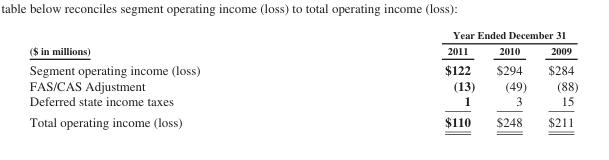table: (28, 28, 577, 128)
table column: (28, 28, 321, 128), (321, 28, 485, 128), (485, 28, 536, 128), (536, 28, 577, 128)
table column header: (28, 28, 577, 59)
table row: (28, 59, 577, 77), (28, 93, 577, 111), (28, 42, 577, 59), (28, 111, 577, 128), (28, 77, 577, 93), (28, 28, 577, 42)
table spanning cell: (28, 28, 321, 59), (321, 28, 577, 42)
